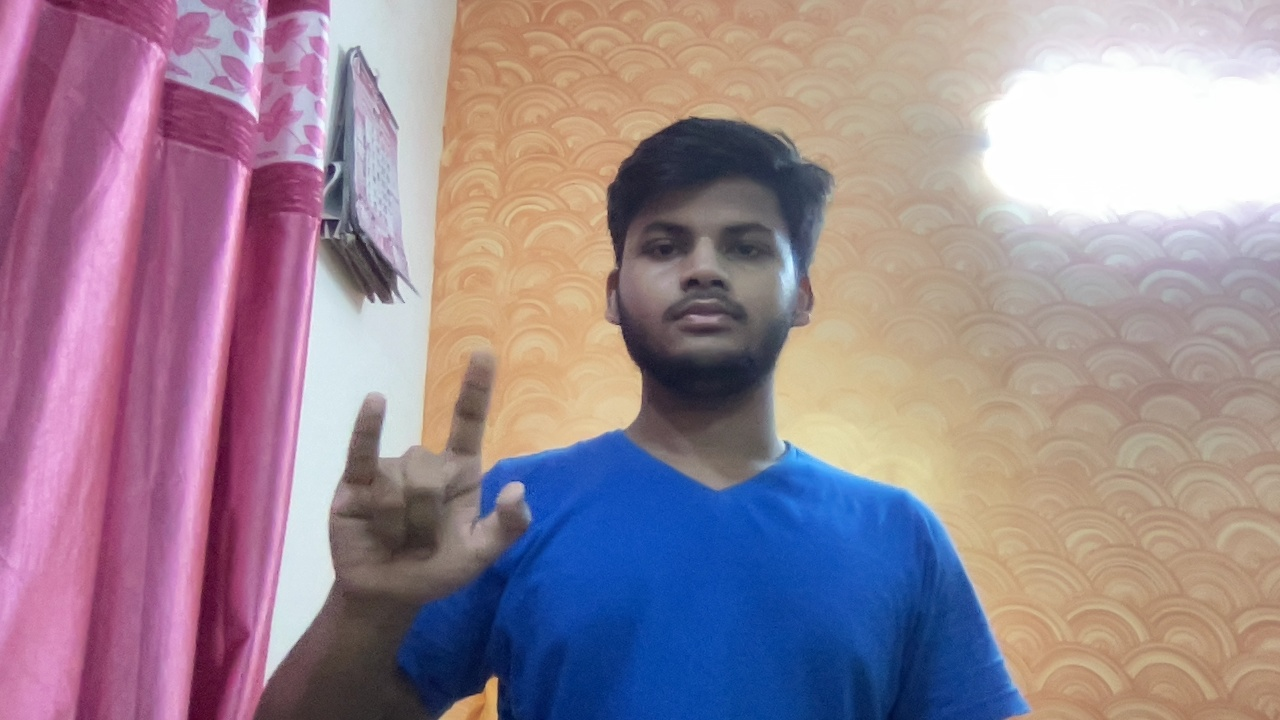iloveyou: (294, 319, 558, 636)
